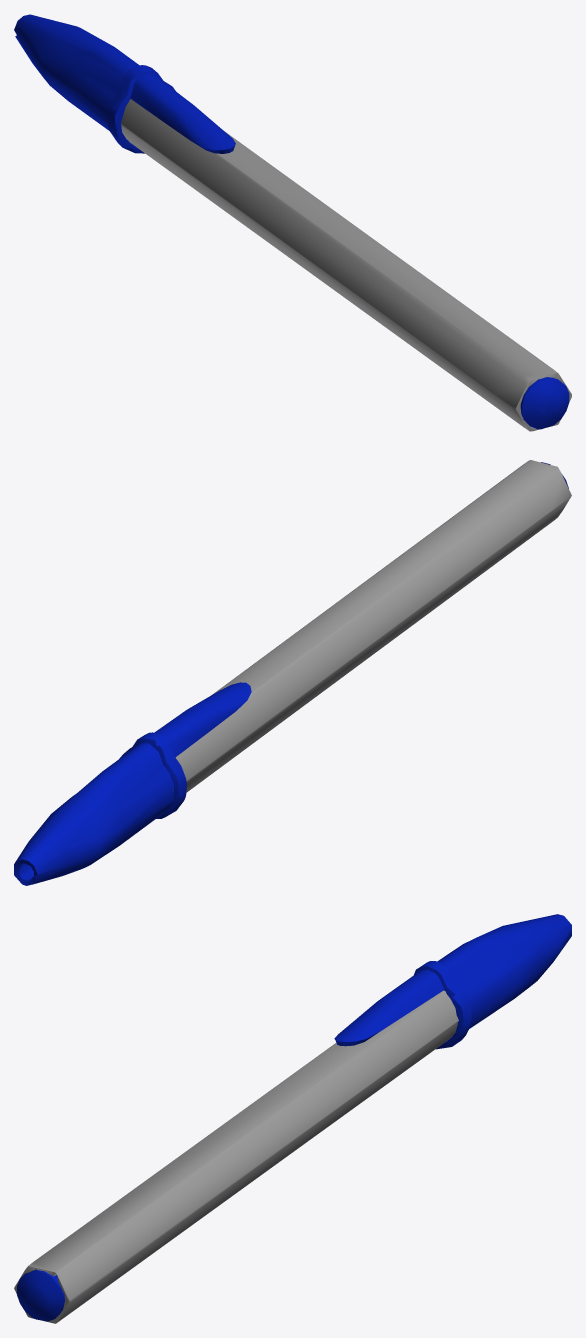
File: Pen 2.FBX
3 renders of one model, top to bottom at view 1: azimuth 30°, elevation 25°; view 2: azimuth 150°, elevation 25°; view 3: azimuth 330°, elevation 25°, orthographic.
Visible parts, largest first — view 1: Pen 2; view 2: Pen 2; view 3: Pen 2.
Part boxes in pixels (x1,y1,x2,y2): Pen 2: (14,14,571,431); Pen 2: (14,460,571,885); Pen 2: (14,914,571,1323).
Size of the model in its own units: 1.05 by 1.23 by 14.19.
